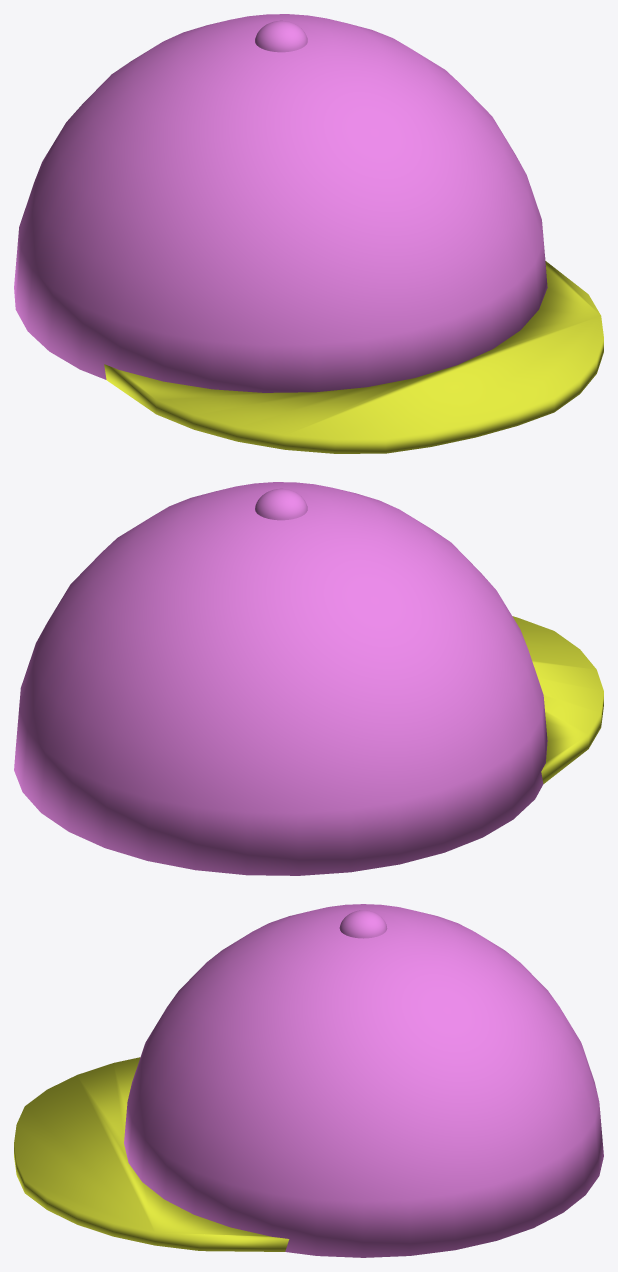
Rendered from Cap.fbx.
3 renders of one model, top to bottom at view 1: azimuth 30°, elevation 25°; view 2: azimuth 150°, elevation 25°; view 3: azimuth 270°, elevation 25°, orthographic. The views are drawn at different scales.
Visible parts, largest first — view 1: Cap; view 2: Cap; view 3: Cap.
Boxes of the visible parts, x1=… form: Cap: x1=14, y1=14, x2=603, y2=453; Cap: x1=14, y1=482, x2=603, y2=875; Cap: x1=14, y1=904, x2=603, y2=1257.
Bounding box in the file's own units: 2 × 1.12 × 2.45.
